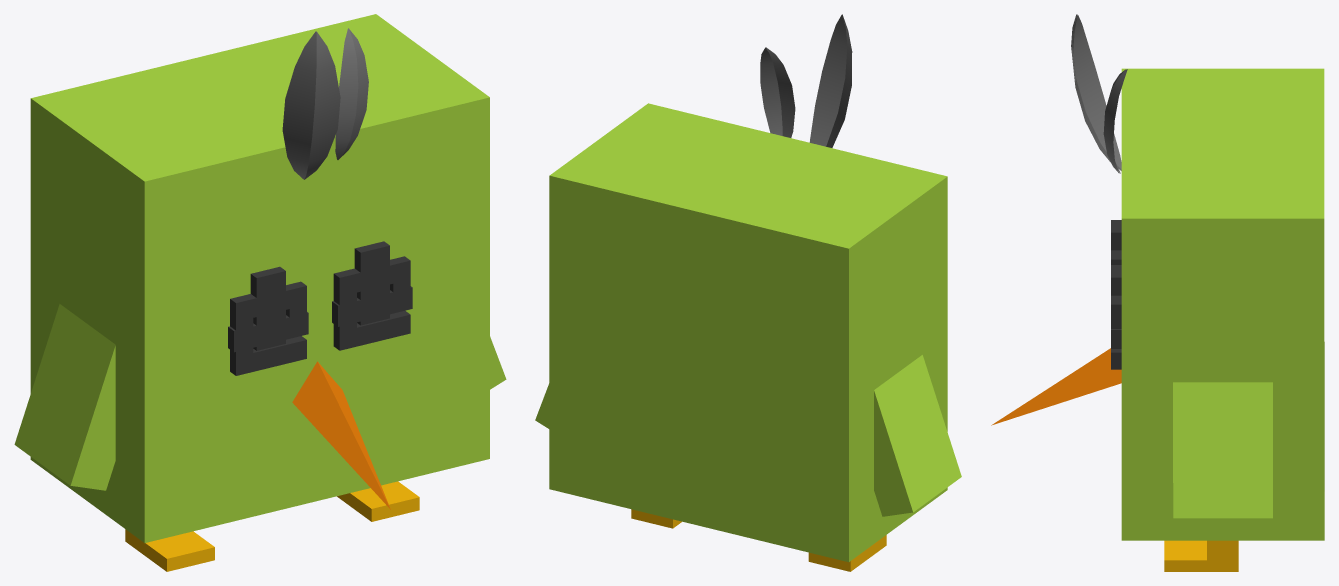
3 views of the same model, side by side, from view 1: azimuth 30°, elevation 25°; view 2: azimuth 150°, elevation 25°; view 3: azimuth 270°, elevation 25° (orthographic). The views are drawn at different scales.
Parts seen in each view (by area): view 1: Ch_01, Ch_01_Wing_L, Ch_01_Feather, Ch_01_Eye_03_R, Ch_01_Eye_03_L, Ch_01_Leg_L, Ch_01_Leg_R; view 2: Ch_01, Ch_01_Wing_L, Ch_01_Feather, Ch_01_Leg_L; view 3: Ch_01, Ch_01_Wing_R, Ch_01_Feather, Ch_01_Leg_R, Ch_01_Eye_03_R.
Part boxes in pixels (x1,y1,x2,y2): Ch_01: (30, 14, 489, 542); Ch_01_Wing_L: (14, 304, 115, 490); Ch_01_Feather: (282, 28, 368, 179); Ch_01_Eye_03_R: (333, 256, 410, 350); Ch_01_Eye_03_L: (230, 281, 306, 375); Ch_01_Leg_L: (125, 529, 214, 571); Ch_01_Leg_R: (337, 481, 419, 521); Ch_01: (549, 103, 947, 562); Ch_01_Wing_L: (874, 355, 961, 516); Ch_01_Feather: (760, 14, 852, 147); Ch_01_Leg_L: (808, 535, 886, 571); Ch_01: (991, 68, 1324, 540); Ch_01_Wing_R: (1173, 382, 1272, 518); Ch_01_Feather: (1071, 14, 1127, 173); Ch_01_Leg_R: (1164, 540, 1238, 571); Ch_01_Eye_03_R: (1111, 295, 1121, 369).
Bounding box in the file's own units: 10.27 × 12.43 × 7.65.
